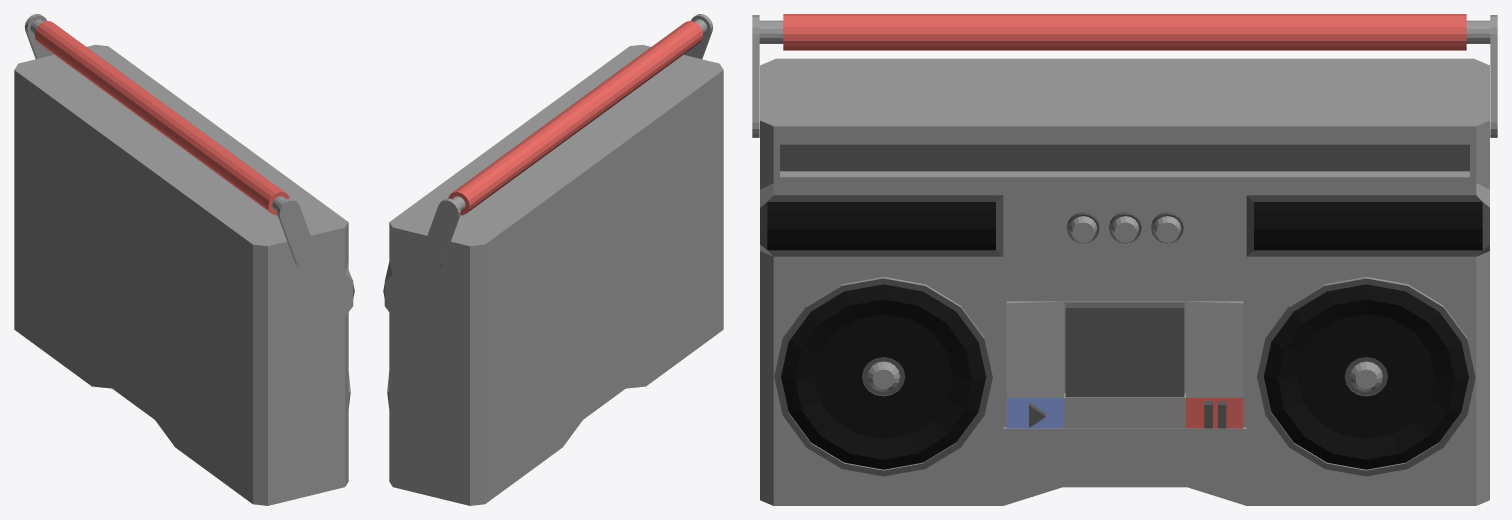
Rendered from boombox.glb.
3 views of the same model, side by side, from view 1: azimuth 30°, elevation 25°; view 2: azimuth 150°, elevation 25°; view 3: azimuth 270°, elevation 25° (orthographic). The views are drawn at different scales.
Visible parts, largest first — view 1: boombox, handle; view 2: boombox, handle; view 3: boombox, box, handle, knobs.
Boxes of the visible parts, x1,y1,x2,y2 form: boombox: [14, 44, 354, 505]; handle: [24, 14, 317, 269]; boombox: [383, 44, 723, 505]; handle: [420, 14, 713, 269]; boombox: [760, 58, 1489, 505]; box: [774, 277, 1475, 476]; handle: [752, 14, 1497, 137]; knobs: [1067, 212, 1183, 243].
Size of the model in its own units: 0.8824 by 2.45 by 3.73.
